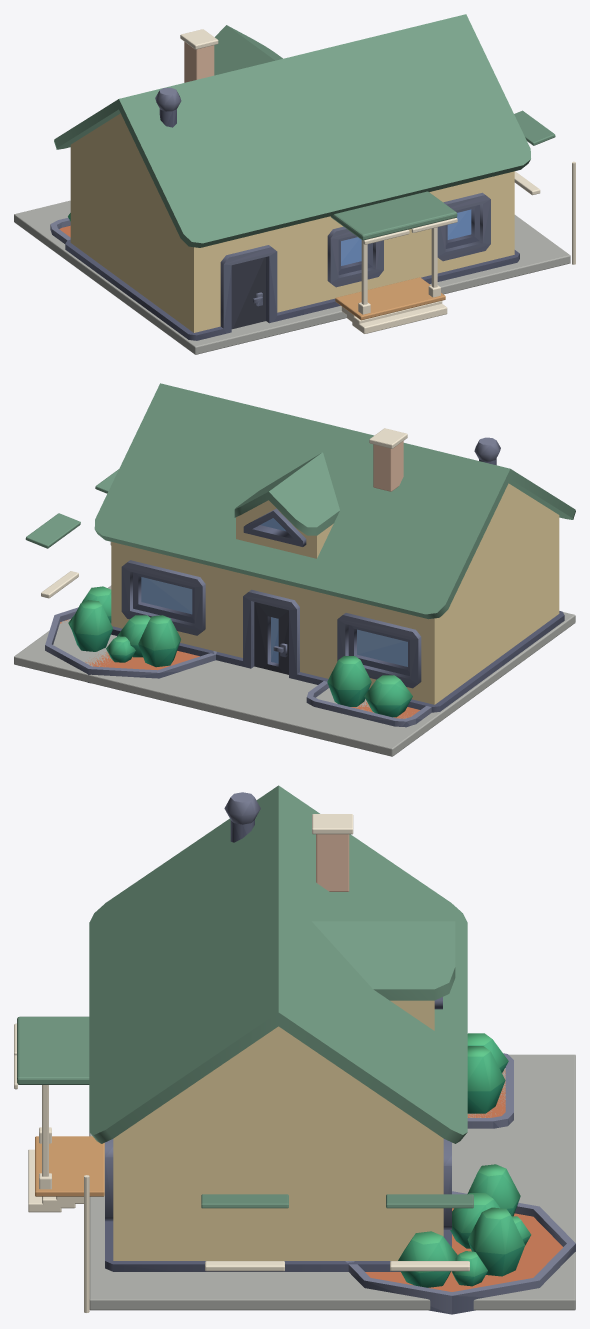
Rendered from house_buttercup.glb.
3 views of the same model, one above another, from view 1: azimuth 30°, elevation 25°; view 2: azimuth 150°, elevation 25°; view 3: azimuth 270°, elevation 25° (orthographic). The views are drawn at different scales.
Visible parts, largest first — view 1: house_buttercup_Mesh; view 2: house_buttercup_Mesh; view 3: house_buttercup_Mesh.
Boxes of the visible parts, <box> form: house_buttercup_Mesh: <box>14,14,575,354</box>; house_buttercup_Mesh: <box>14,383,575,756</box>; house_buttercup_Mesh: <box>14,785,575,1314</box>.
Size of the model in its own units: 12.22 by 6.54 by 10.88.
